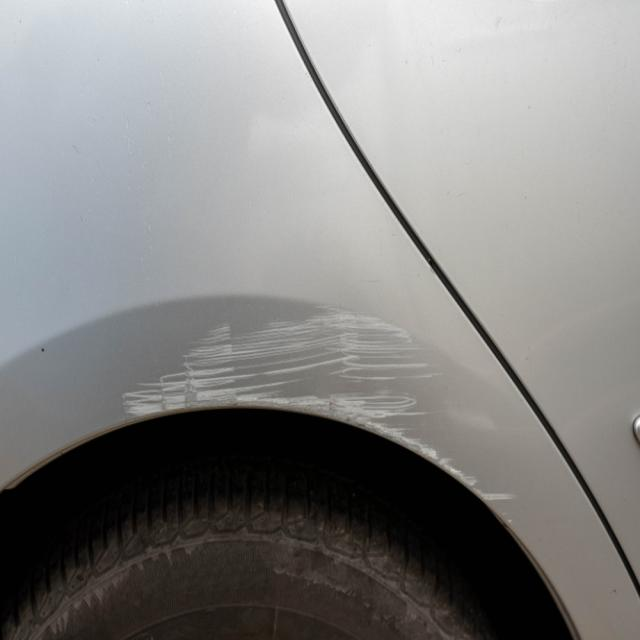scratch: (120, 307, 521, 527)
